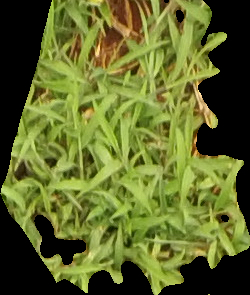grass: (1, 2, 249, 293)
